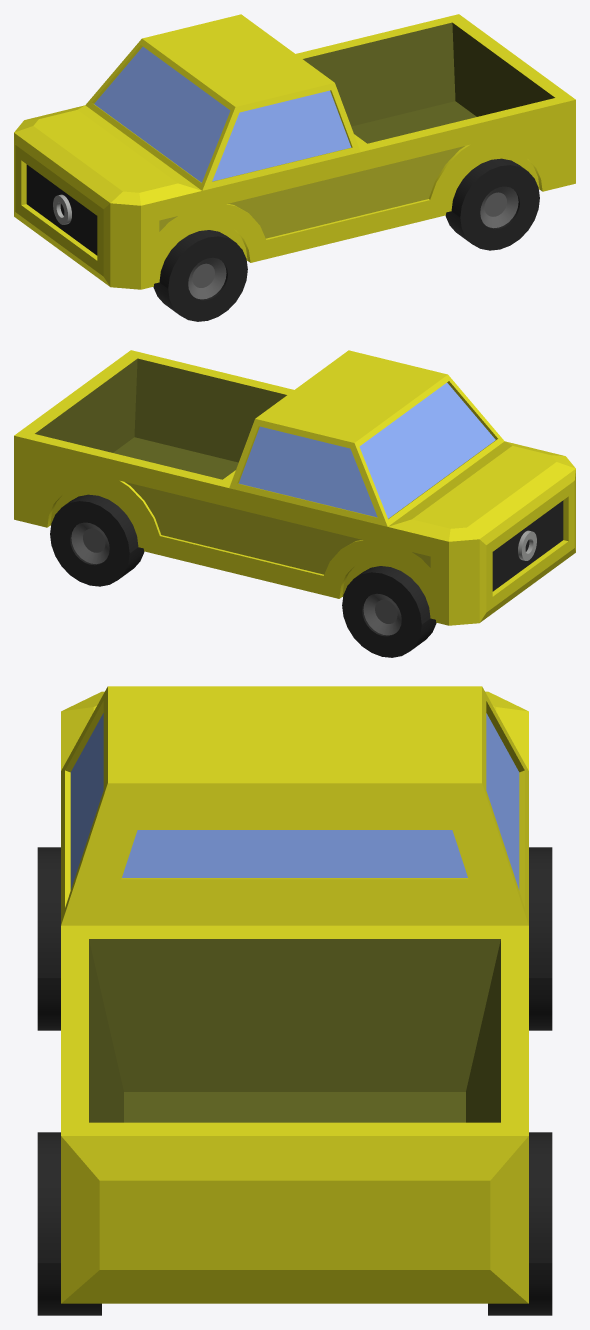
File: Car.fbx
3 renders of one model, top to bottom at view 1: azimuth 30°, elevation 25°; view 2: azimuth 150°, elevation 25°; view 3: azimuth 270°, elevation 25°, orthographic. The views are drawn at different scales.
Visible parts, largest first — view 1: 1674345303265247; view 2: 1674345303265247; view 3: 1674345303265247.
Boxes of the visible parts, x1,y1,x2,y2 form: 1674345303265247: [14, 14, 575, 321]; 1674345303265247: [14, 350, 575, 657]; 1674345303265247: [37, 686, 552, 1315].
Size of the model in its own units: 815 by 319 by 392.
